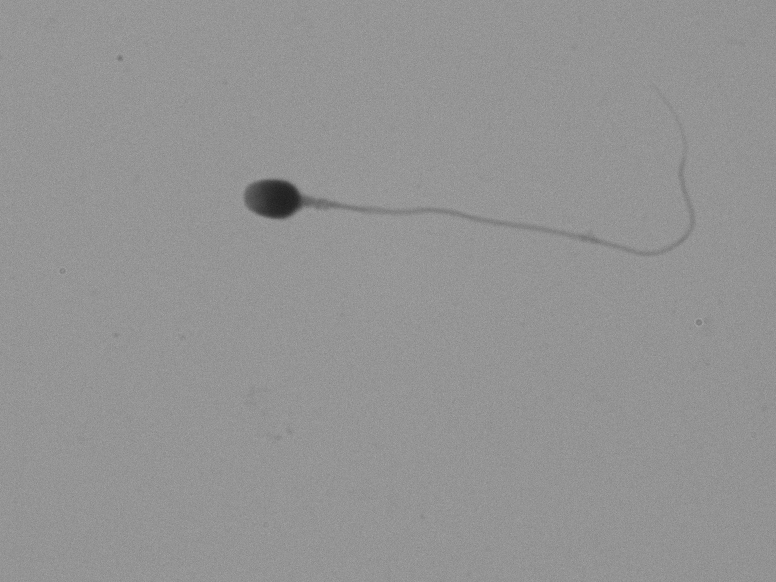Normal: (205, 104, 707, 337)
